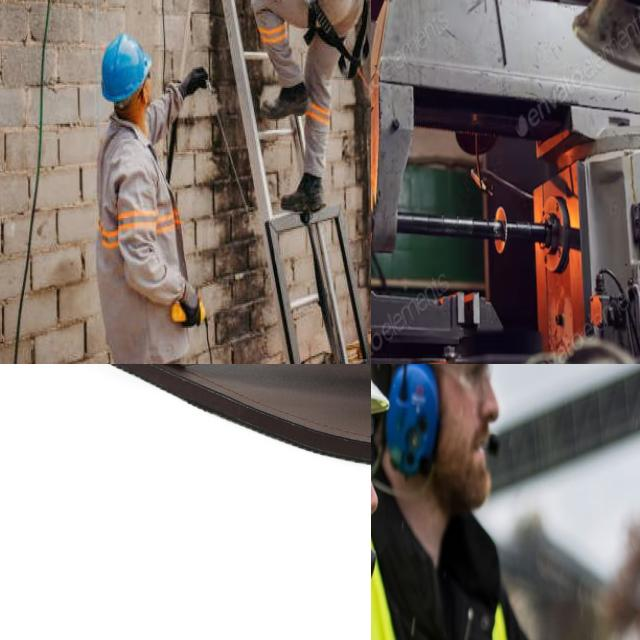Ear-protection: (371, 364, 500, 515)
Harness: (296, 0, 371, 85)
Sandals: (29, 364, 371, 474)
